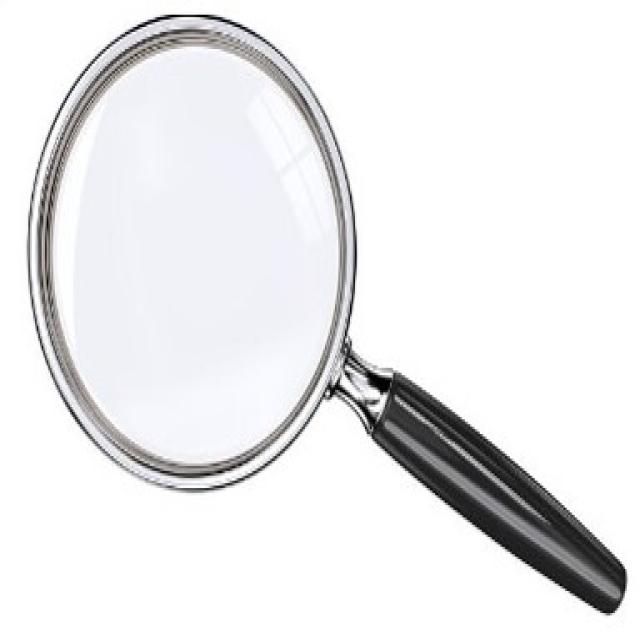electronic: (26, 11, 629, 614)
